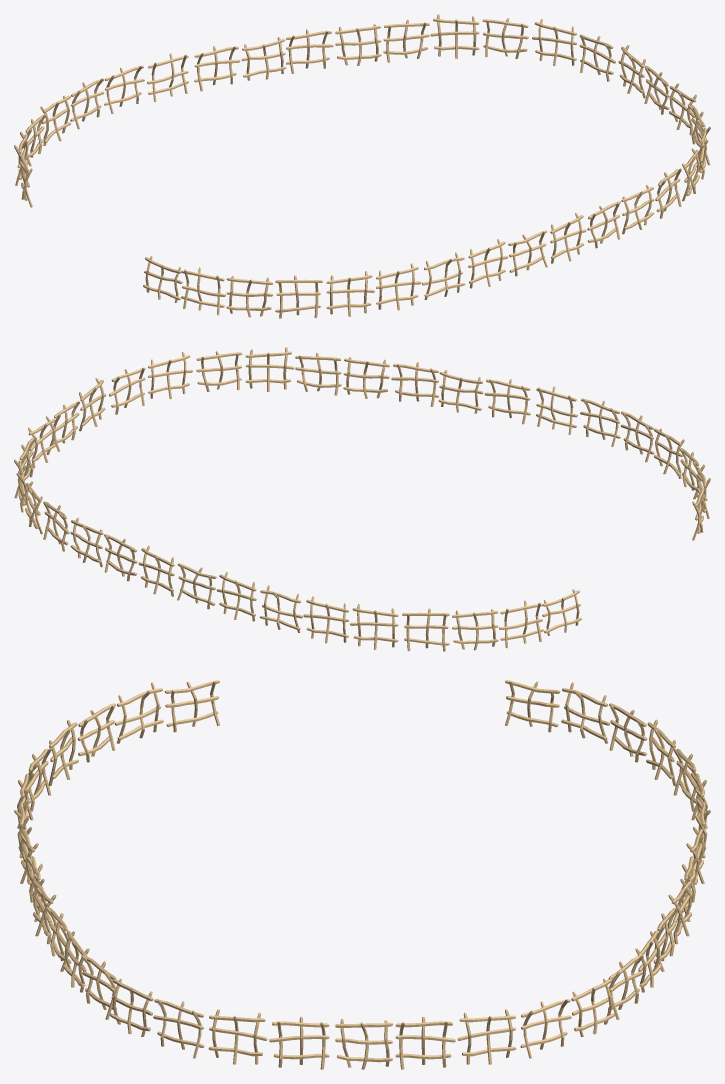
The model's file is Wall sticks.fbx.
3 renders of one model, top to bottom at view 1: azimuth 30°, elevation 25°; view 2: azimuth 150°, elevation 25°; view 3: azimuth 270°, elevation 25°, orthographic. The views are drawn at different scales.
Parts seen in each view (by area): view 1: Wall sticks; view 2: Wall sticks; view 3: Wall sticks.
Part boxes in pixels (<box>): Wall sticks: <box>14,14,710,318</box>; Wall sticks: <box>14,347,710,651</box>; Wall sticks: <box>14,680,710,1069</box>.
Size of the model in its own units: 9.03 by 0.5993 by 7.62.
